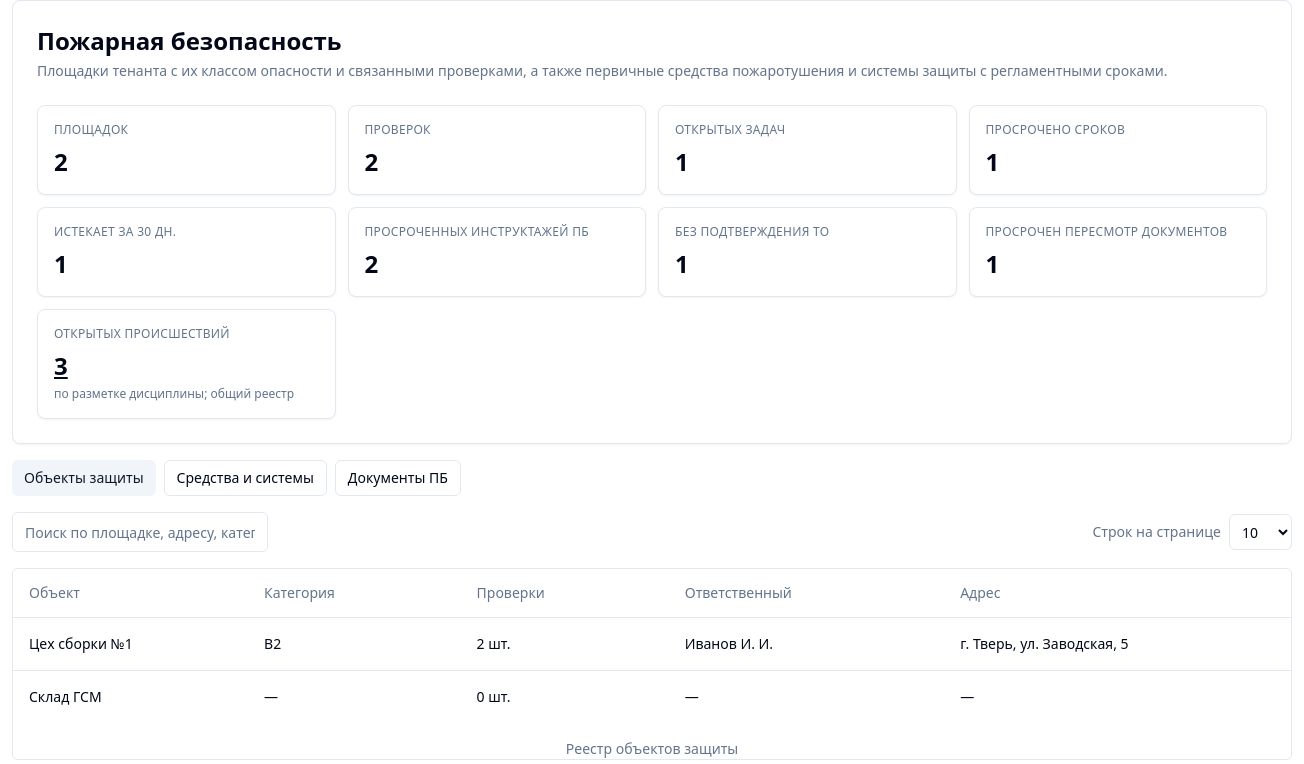
Scenario: FireSafetyPage › показывает последнее подтверждённое ТО и называет его отсутствие
Expected: the text "Цех сборки №1" is shown, [13,617,248,670]
Click the button "Средства и системы": [245, 478] box [164,460,327,496]
(page scrolled)
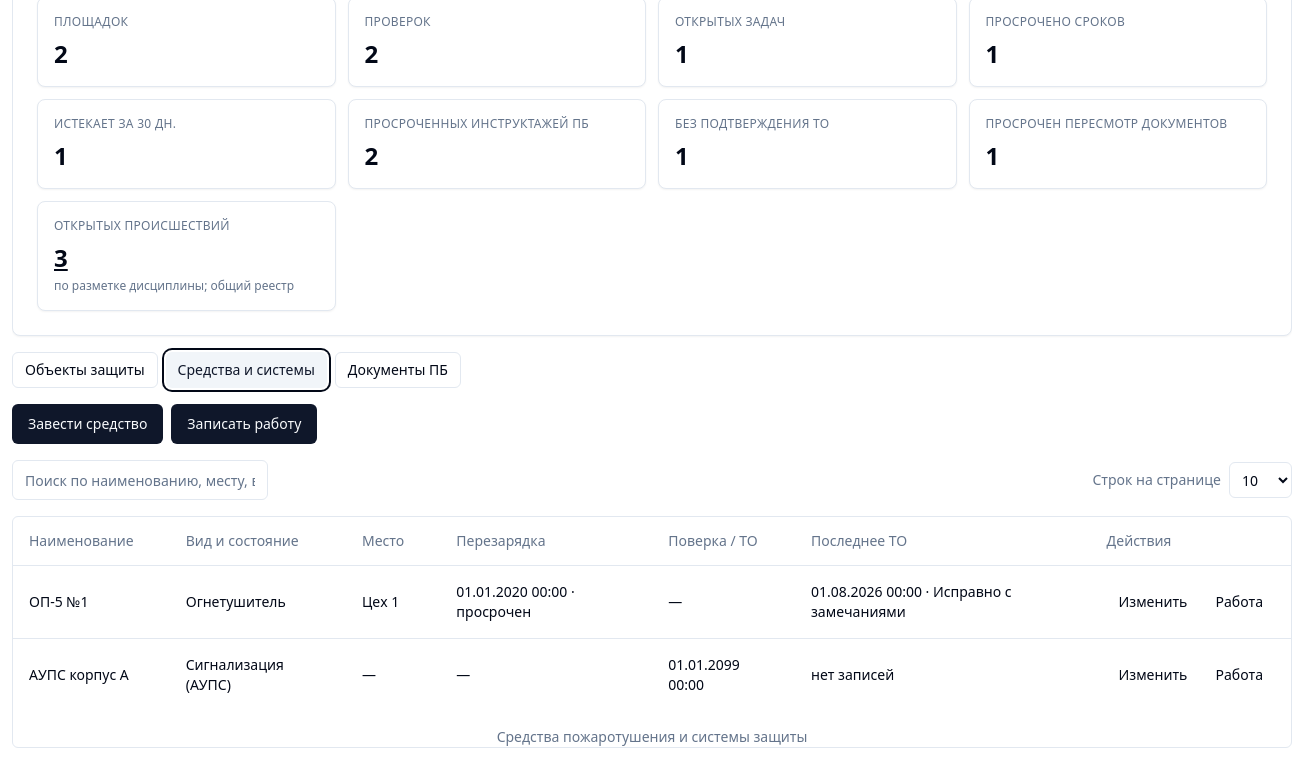
Result: the text "ОП-5 №1" is shown at [13,565,170,638]
Result: the text "01.08.2026 00:00 · Исправно с замечаниями" is shown at [795,565,1091,638]
Result: the text "нет записей" is shown at [795,638,1091,710]
